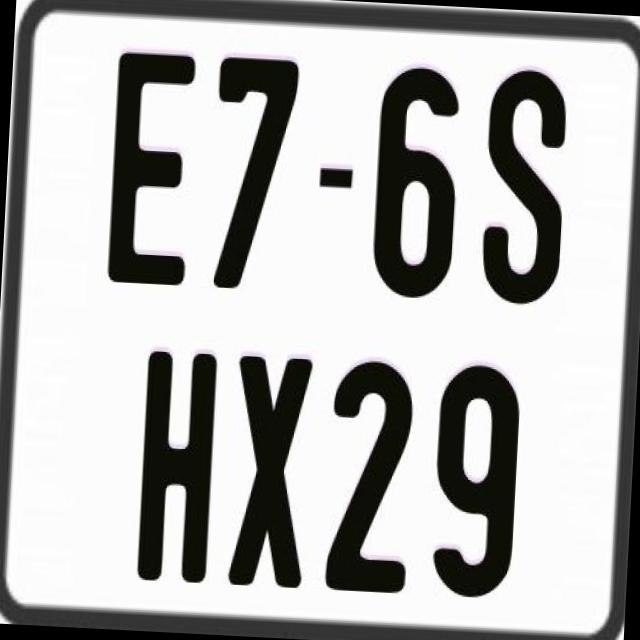2: (324, 354, 424, 592)
6: (369, 62, 468, 306)
7: (206, 57, 302, 293)
9: (427, 363, 527, 602)
E: (106, 51, 200, 286)
H: (133, 348, 220, 586)
S: (475, 65, 567, 312)
X: (228, 356, 318, 590)
